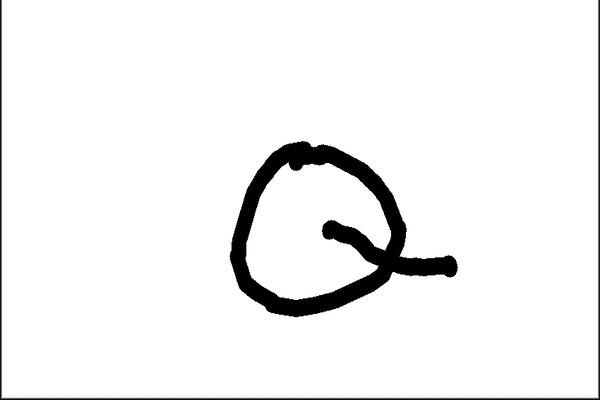Q: (212, 132, 470, 319)
